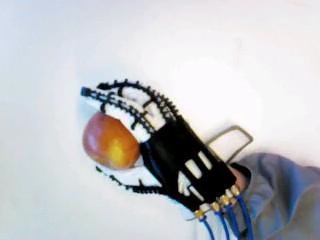apple: (81, 108, 143, 169)
hand: (80, 79, 239, 218)
